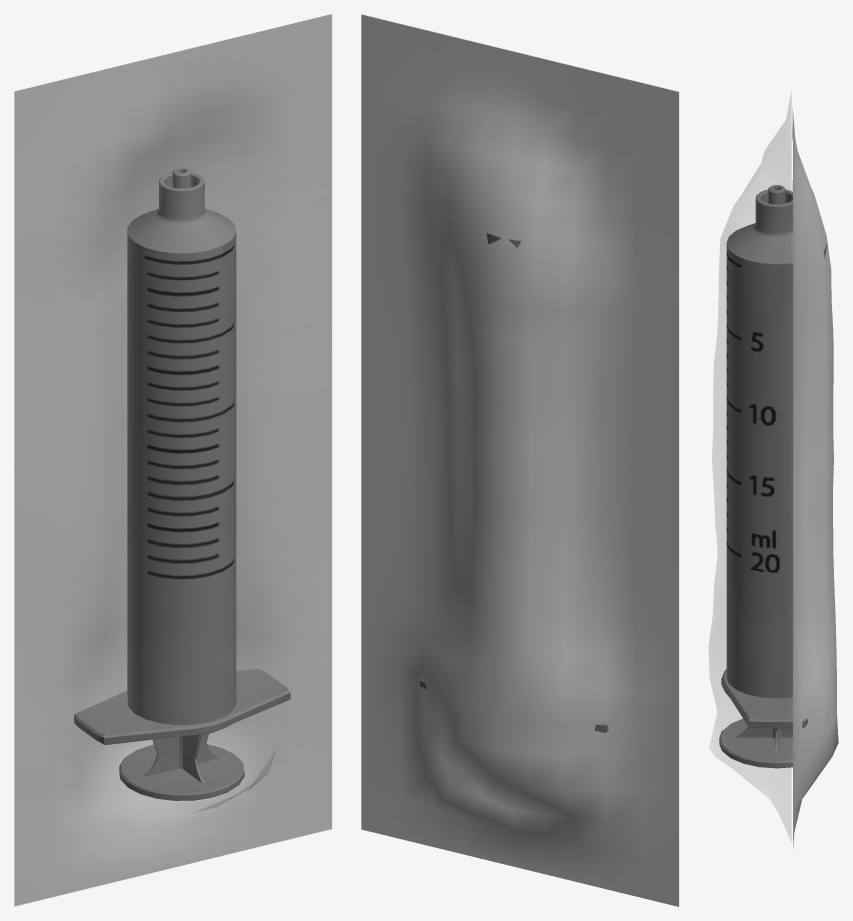
File: syringe_20ml.fbx
3 renders of one model, left to right at view 1: azimuth 30°, elevation 25°; view 2: azimuth 150°, elevation 25°; view 3: azimuth 270°, elevation 25°, orthographic. The views are drawn at different scales.
Visible parts, largest first — view 1: syringe_20ml_cover_back, syringe_20ml_out, syringe_20ml_in; view 2: syringe_20ml_cover_back; view 3: syringe_20ml_out, syringe_20ml_cover_back, syringe_20ml_cover_front, syringe_20ml_in.
Part boxes in pixels (box(x1,y1,x2,y2)): syringe_20ml_cover_back: box(14, 14, 331, 906); syringe_20ml_out: box(74, 167, 290, 744); syringe_20ml_in: box(119, 733, 244, 800); syringe_20ml_cover_back: box(361, 14, 678, 906); syringe_20ml_out: box(721, 185, 827, 728); syringe_20ml_cover_back: box(792, 107, 838, 848); syringe_20ml_cover_front: box(708, 92, 792, 841); syringe_20ml_in: box(719, 718, 792, 768).
Bounding box in the file's own units: 6.69 × 16.42 × 2.58.
